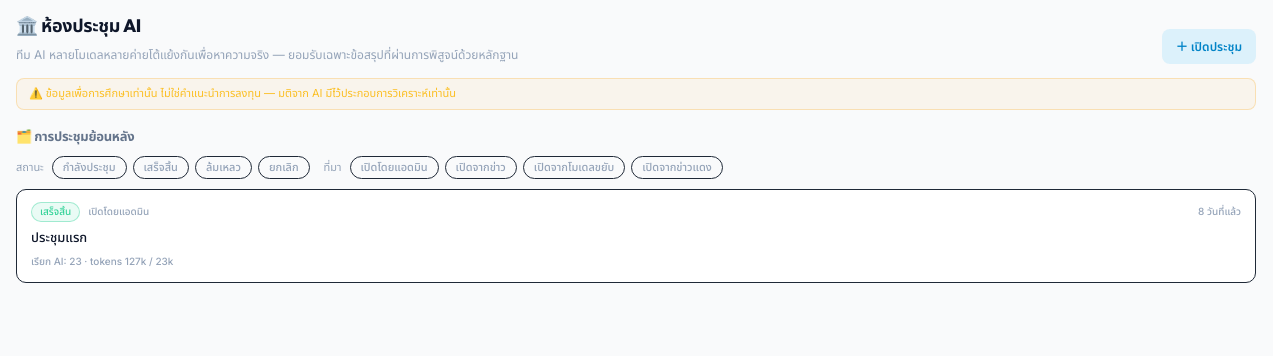
it: BoardroomDashboard — ตัวกรองคลังประชุม (9.4) › กรองแล้วไม่พบ → ข้อความบอก ไม่ใช่หน้าว่าง
Expected: the text "ประชุมแรก" is shown, [31,229,87,245]
Click the button "ล้มเหลว": point(223, 168) [195,156,252,179]
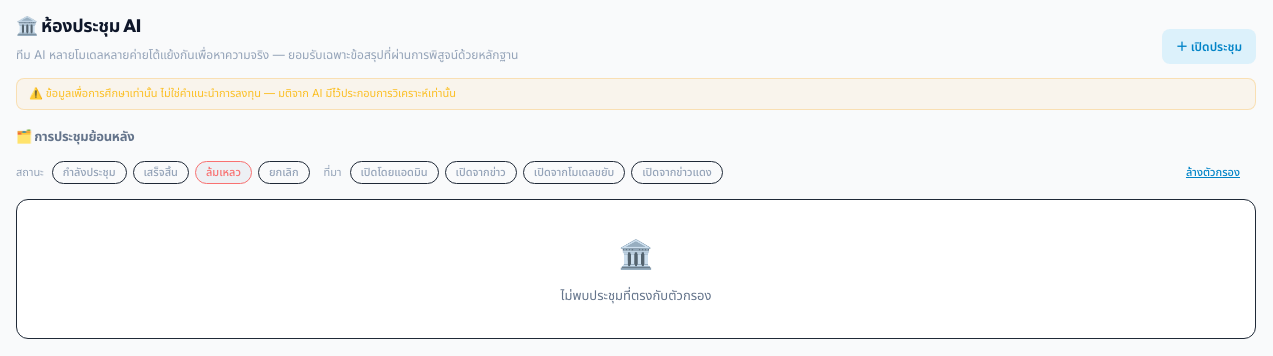
Now the text "ไม่พบประชุมที่ตรงกับตัวกรอง" is shown, box [560,287,712,303]
